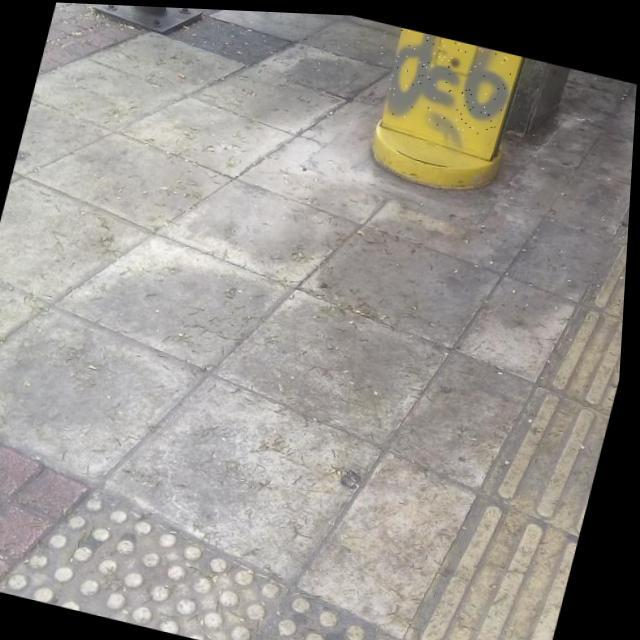-: (380, 23, 517, 140)
